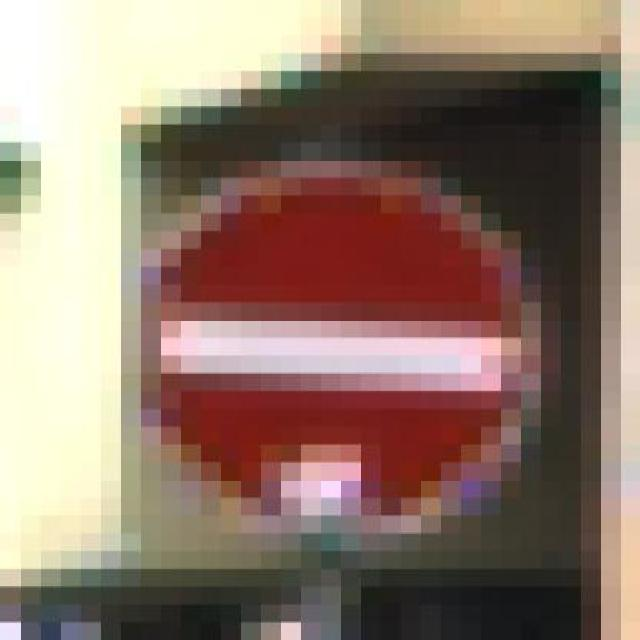No Entry: (60, 142, 580, 569)
